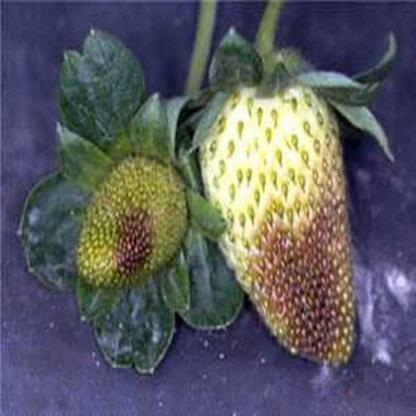Strawberry_Anthracnose_Fruit_Rot: (247, 153, 356, 364), (105, 200, 154, 284)
